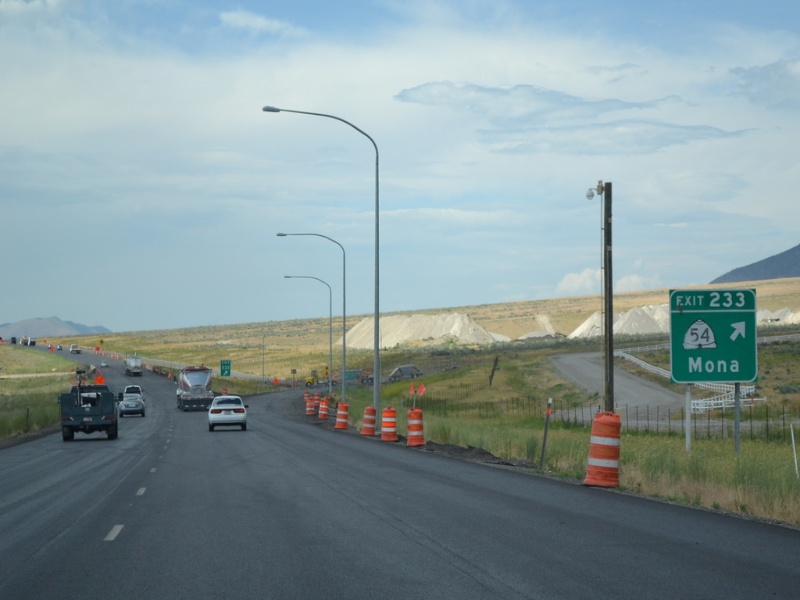exit: (666, 292, 749, 316)
